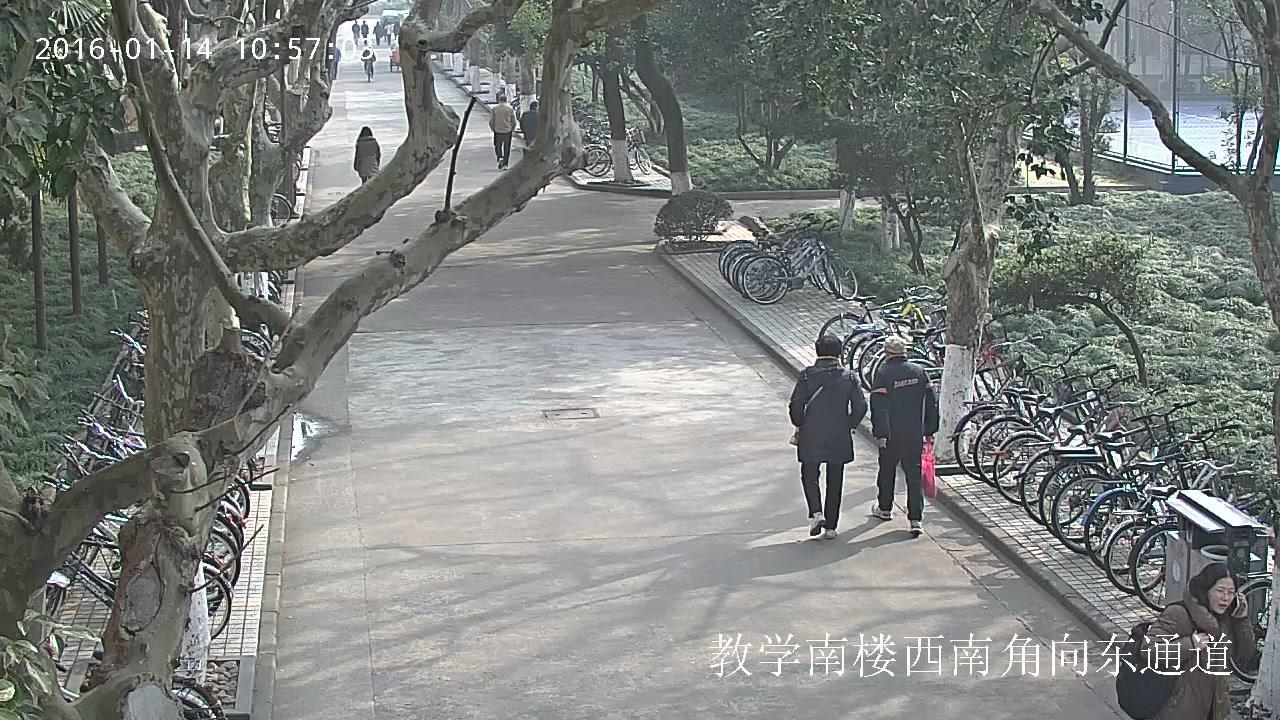person: (1114, 562, 1260, 720), (787, 334, 867, 540), (870, 337, 939, 538), (489, 94, 516, 169), (353, 125, 381, 184), (520, 100, 541, 147), (360, 46, 376, 83), (361, 47, 375, 78), (330, 44, 341, 79), (390, 42, 400, 73), (351, 19, 360, 47), (372, 21, 381, 46), (361, 19, 369, 45), (384, 21, 392, 45), (389, 42, 399, 56), (393, 22, 400, 40)
